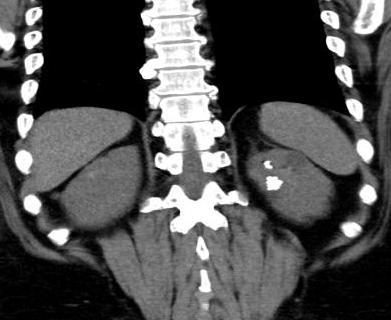Tas_Var: (265, 173, 284, 192), (263, 160, 276, 170)
